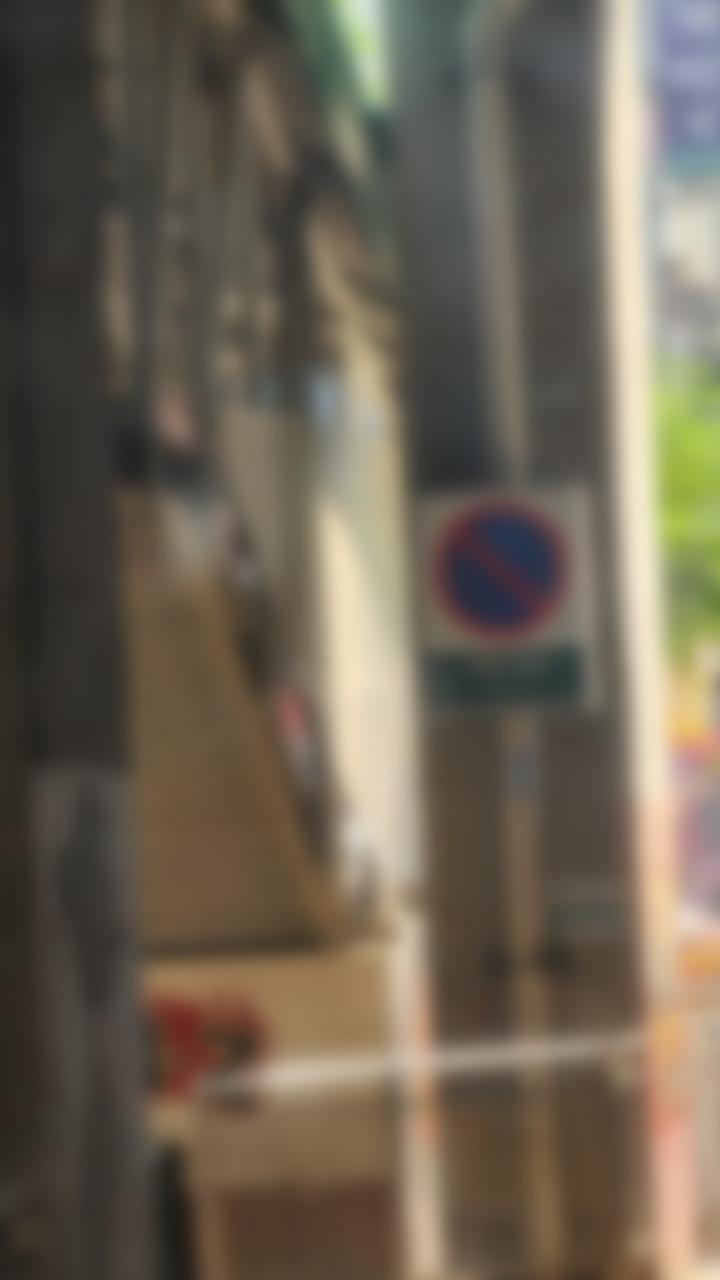No Parking: (413, 478, 607, 715)
